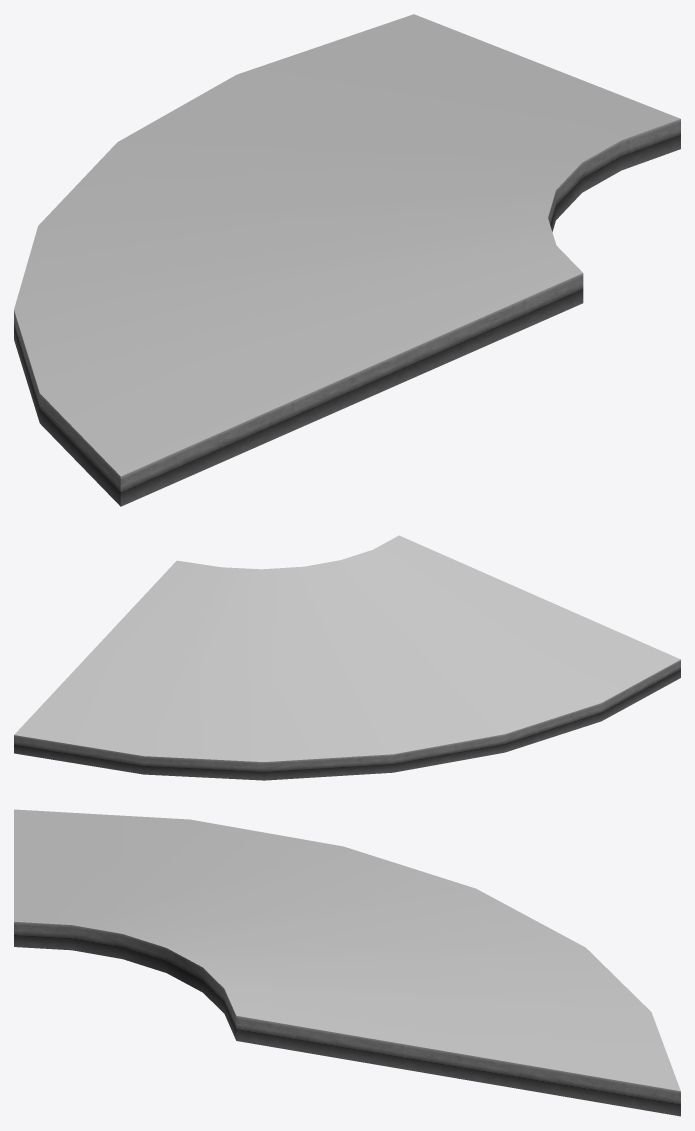
File: Bend1x1_BankB.fbx
3 views of the same model, one above another, from view 1: azimuth 30°, elevation 25°; view 2: azimuth 150°, elevation 25°; view 3: azimuth 270°, elevation 25° (orthographic). The views are drawn at different scales.
Parts seen in each view (by area): view 1: Empty_Mesh; view 2: Empty_Mesh; view 3: Empty_Mesh.
Part boxes in pixels (x1,y1,x2,y2): Empty_Mesh: (14,14,680,506); Empty_Mesh: (14,535,680,780); Empty_Mesh: (14,809,680,1116).
Size of the model in its own units: 2400 by 400 by 2400.
